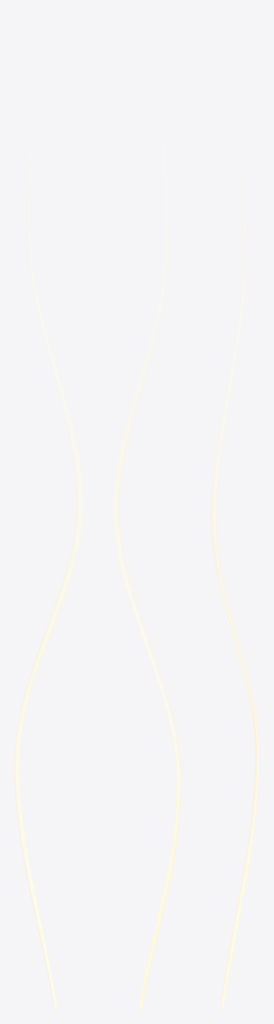
File: strand_e_danger.glb
3 views of the same model, side by side, from view 1: azimuth 30°, elevation 25°; view 2: azimuth 210°, elevation 25°; view 3: azimuth 270°, elevation 25° (orthographic).
Size of the model in its own units: 0.3492 by 7 by 0.3202.
